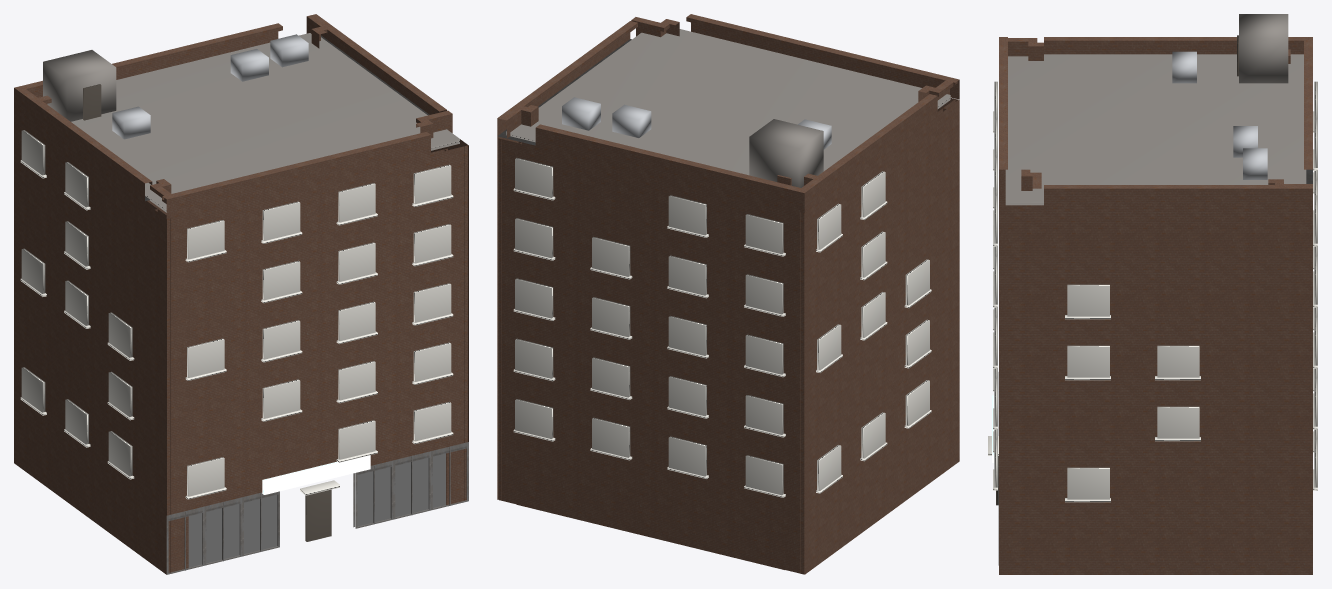
The model's file is b_hotel.gltf.
3 renders of one model, left to right at view 1: azimuth 30°, elevation 25°; view 2: azimuth 150°, elevation 25°; view 3: azimuth 270°, elevation 25°, orthographic. The views are drawn at different scales.
Visible parts, largest first — view 1: b_hotel; view 2: b_hotel; view 3: b_hotel.
Boxes of the visible parts, bbox=[...] form: b_hotel: bbox=[14, 14, 468, 574]; b_hotel: bbox=[497, 14, 959, 574]; b_hotel: bbox=[988, 14, 1317, 574].
Size of the model in its own units: 16.48 by 20.55 by 14.7.
14 materials, 5 textured.
